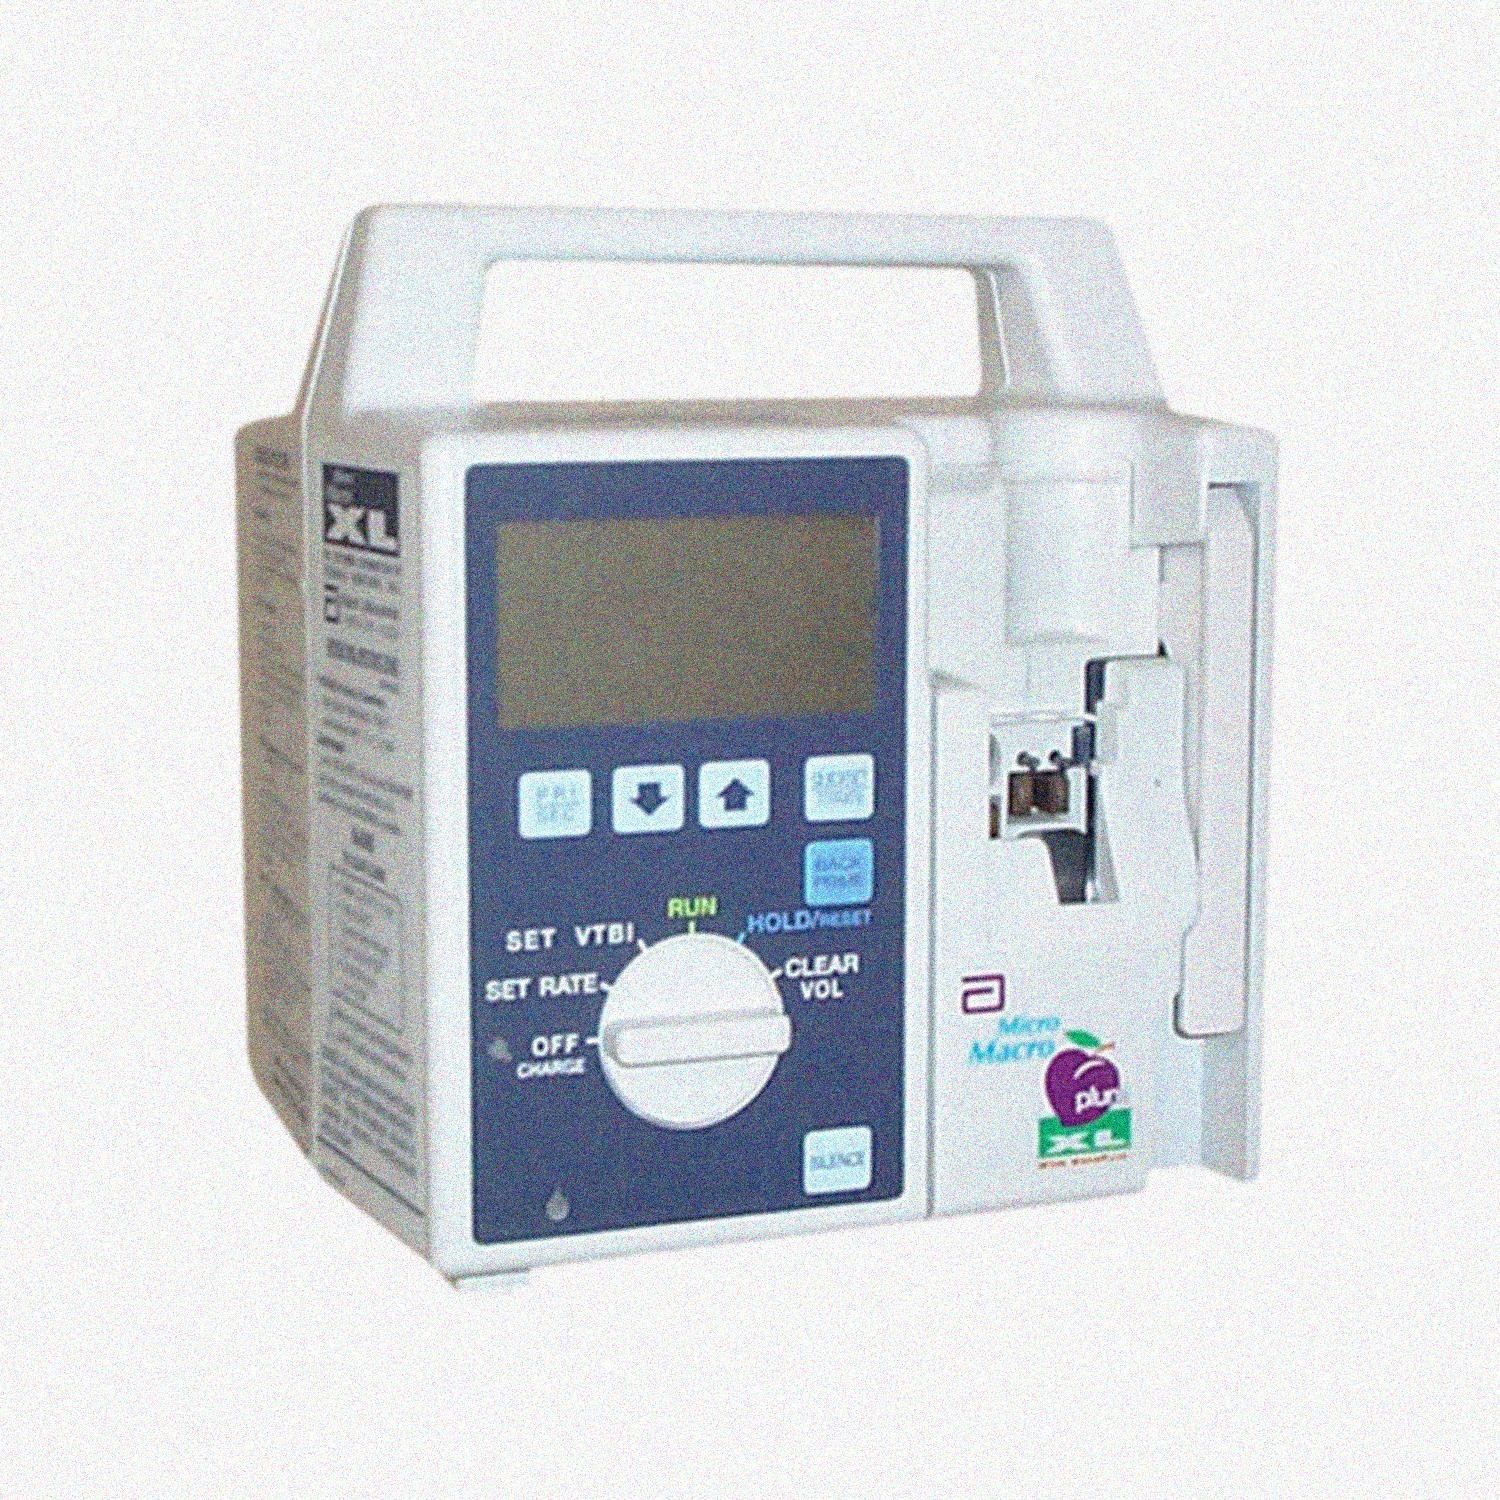plumxl1: (232, 196, 1301, 1287)
